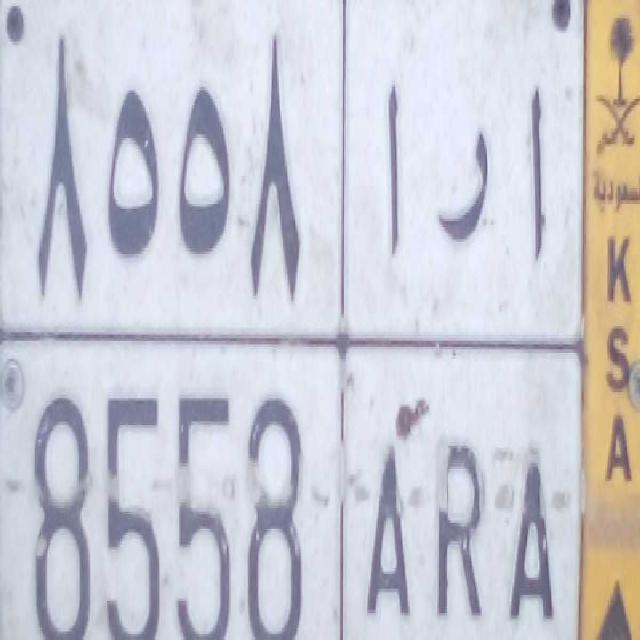license_plate: (0, 330, 578, 640)
